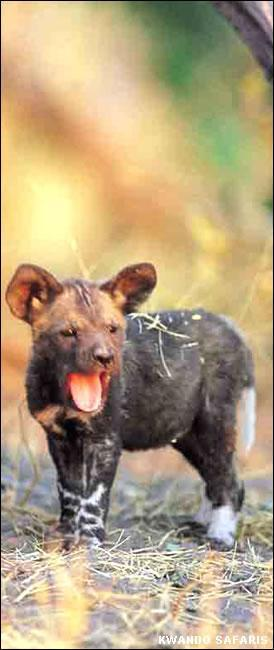African_hunting_dog: (1, 259, 259, 554)
